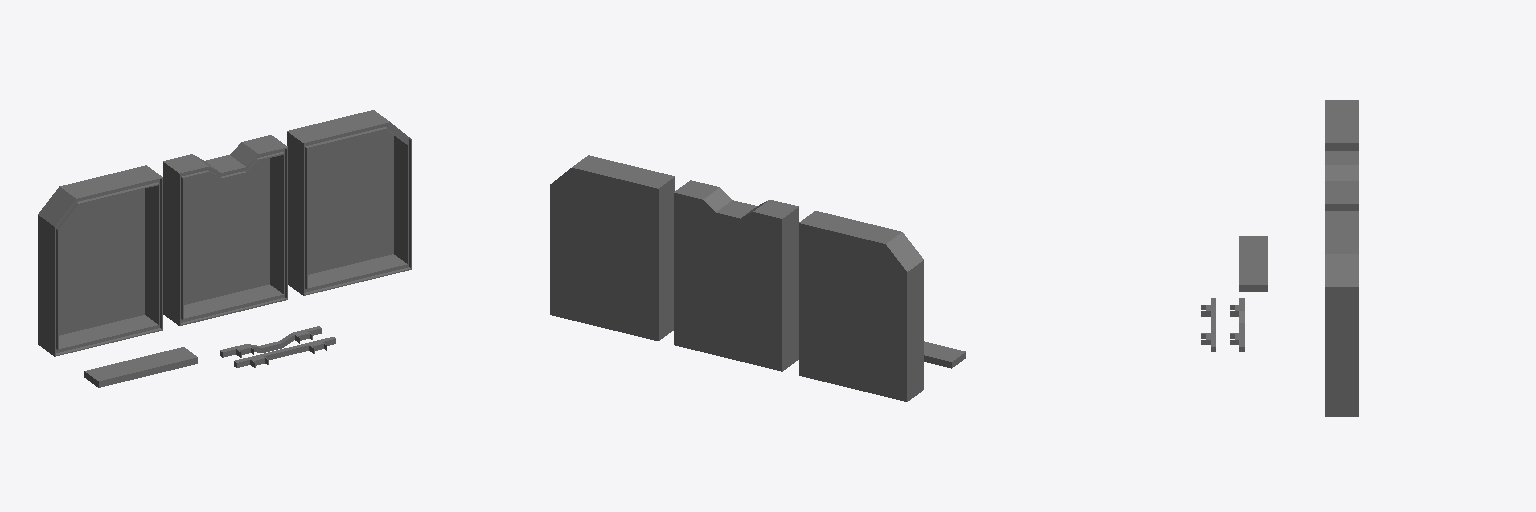
The model's file is Prop_Estanterias.obj.
3 renders of one model, left to right at view 1: azimuth 30°, elevation 25°; view 2: azimuth 150°, elevation 25°; view 3: azimuth 270°, elevation 25°, orthographic.
Visible parts, largest first — view 1: Estanterias_OBJ:pCube15, Estanterias_OBJ:pCube3, Estanterias_OBJ:pCube1, Estanterias_OBJ:pCube4, Estanterias_OBJ:polySurface3, Estanterias_OBJ:polySurface6; view 2: Estanterias_OBJ:pCube15, Estanterias_OBJ:pCube3, Estanterias_OBJ:pCube1, Estanterias_OBJ:pCube4; view 3: Estanterias_OBJ:pCube1, Estanterias_OBJ:pCube3, Estanterias_OBJ:pCube15, Estanterias_OBJ:pCube4, Estanterias_OBJ:polySurface6.
Boxes of the visible parts, box(x1,y1,x2,y2) form: Estanterias_OBJ:pCube15: box(38, 165, 162, 356); Estanterias_OBJ:pCube3: box(163, 135, 287, 325); Estanterias_OBJ:pCube1: box(287, 110, 411, 295); Estanterias_OBJ:pCube4: box(84, 347, 197, 387); Estanterias_OBJ:polySurface3: box(234, 337, 335, 367); Estanterias_OBJ:polySurface6: box(220, 326, 321, 357); Estanterias_OBJ:pCube15: box(799, 211, 923, 401); Estanterias_OBJ:pCube3: box(674, 180, 798, 371); Estanterias_OBJ:pCube1: box(550, 155, 674, 340); Estanterias_OBJ:pCube4: box(924, 341, 965, 368); Estanterias_OBJ:pCube1: box(1325, 211, 1358, 416); Estanterias_OBJ:pCube3: box(1325, 151, 1358, 210); Estanterias_OBJ:pCube15: box(1325, 100, 1358, 150); Estanterias_OBJ:pCube4: box(1239, 236, 1267, 291); Estanterias_OBJ:polySurface6: box(1230, 298, 1244, 351).
Bounding box in the file's own units: 14.43 × 6.09 × 5.51.